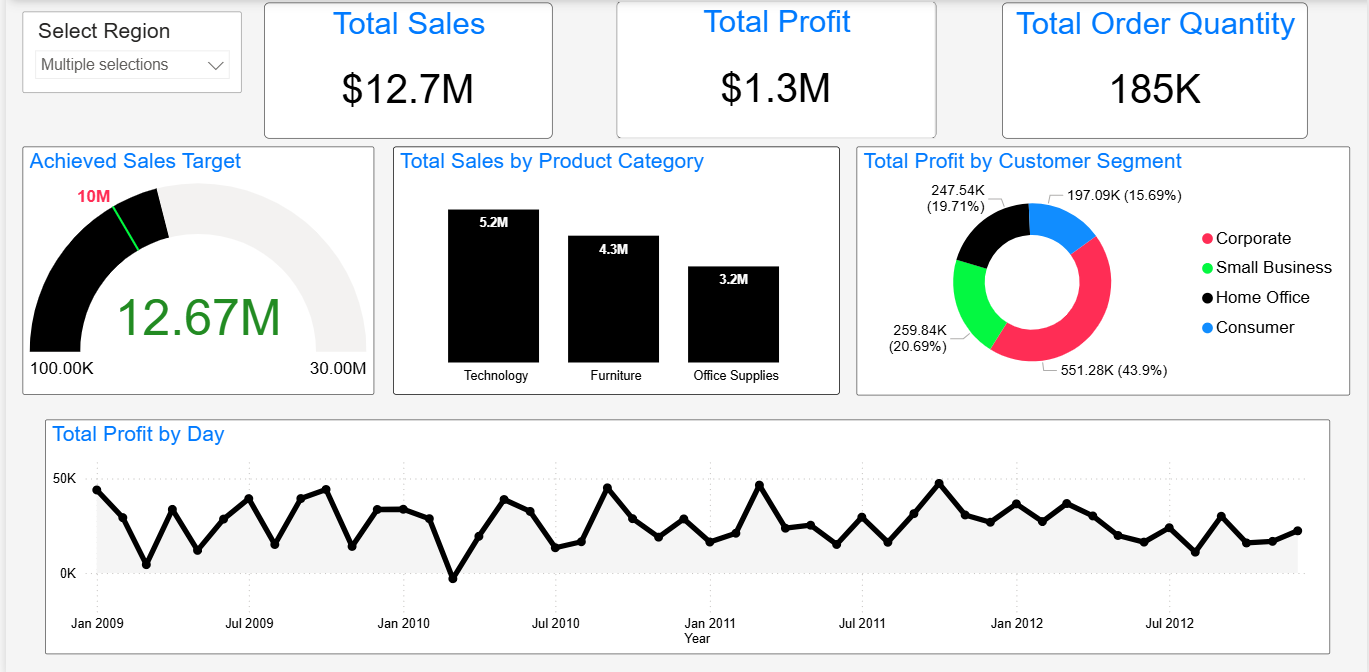

This screenshot's page, from the dashboard's own definition file:
{"tool":"powerbi","page":{"name":"Page 1","canvas":[1280,720],"ordinal":0},"visuals":[{"type":"cardVisual","title":"Total Sales","fields":{"Data":["Sum(Orders.Sales)"]},"box":[242.8,83.1,271.6,127.8],"z":0},{"type":"cardVisual","title":"Total Profit","fields":{"Data":["Sum(Orders.Profit)"]},"box":[573.6,81.5,300.4,129.4],"z":1000},{"type":"cardVisual","title":"Total Order Quantity","fields":{"Data":["Sum(Orders.Order Quantity)"]},"box":[936.2,83.1,287.6,127.8],"z":2000},{"type":"clusteredColumnChart","title":"Total Sales by Product Category","fields":{"Category":["Orders.Product Category"],"Y":["Sum(Orders.Sales)"]},"box":[363.7,218.9,420.1,233.4],"z":3000},{"type":"lineChart","title":"Total Profit by Day","fields":{"Y":["Sum(Orders.Profit)"],"Category":["Orders.Order Date.Variation.Date Hierarchy.Year","Orders.Order Date.Variation.Date Hierarchy.Quarter","Orders.Order Date.Variation.Date Hierarchy.Month"]},"box":[36.7,474.5,1207.8,220.5],"z":4000},{"type":"donutChart","title":"Total Profit by Customer Segment","fields":{"Category":["Orders.Customer Segment"],"Y":["Sum(Orders.Profit)"]},"box":[799.4,218.5,463.9,234.1],"z":5000},{"type":"gauge","title":"Achieved Sales Target","fields":{"Y":["Sum(Orders.Sales)"],"TargetValue":["Orders.Sales Target"]},"box":[16,218.9,330.7,233.3],"z":6000},{"type":"slicer","fields":{"Values":["Orders.Region"]},"box":[16,91.1,206.1,76.7],"z":7000},{"type":"textbox","box":[0,0,1279.5,70.8],"z":8000}]}

Visuals, with their boxes on the page's 1280x720 design canvas (x1, y1, x2, y2). These are canvas units, not pixel positions in the 1369x672 screenshot, which may show the page scaled, cropped or inside an application window:
"Total Sales" cardVisual: <box>243,83,514,211</box>
"Total Profit" cardVisual: <box>574,82,874,211</box>
"Total Order Quantity" cardVisual: <box>936,83,1224,211</box>
"Total Sales by Product Category" clusteredColumnChart: <box>364,219,784,452</box>
"Total Profit by Day" lineChart: <box>37,474,1244,695</box>
"Total Profit by Customer Segment" donutChart: <box>799,218,1263,453</box>
"Achieved Sales Target" gauge: <box>16,219,347,452</box>
slicer - Orders.Region: <box>16,91,222,168</box>
textbox: <box>0,0,1280,71</box>
